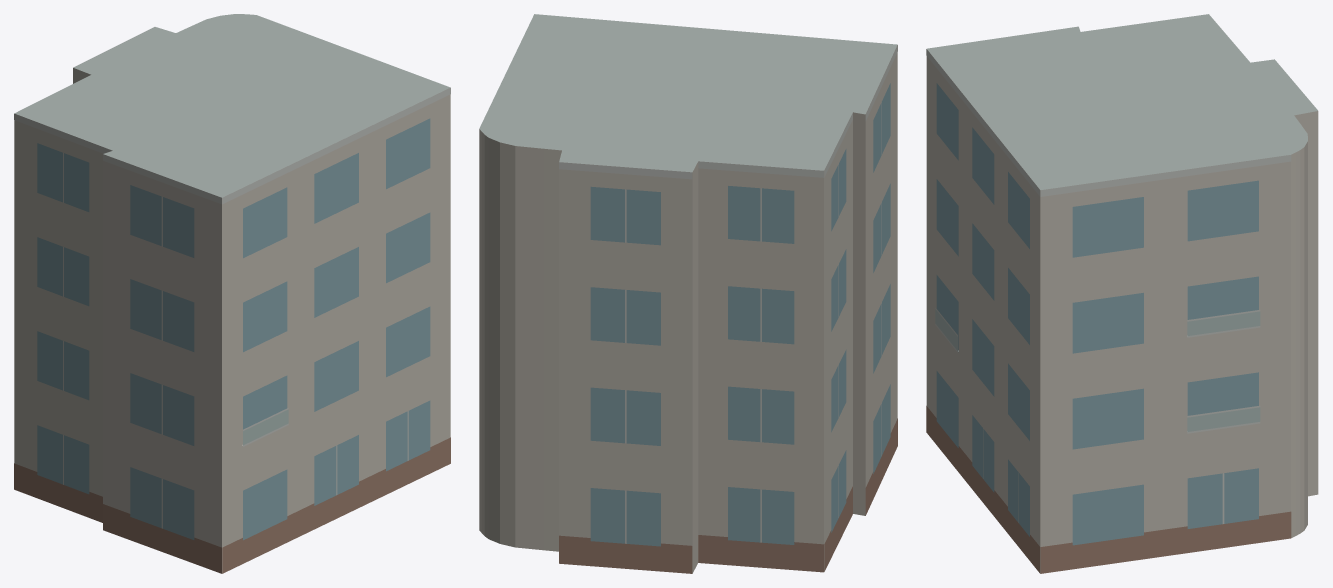
The model's file is survey-upis-32810015.glb.
3 views of the same model, side by side, from view 1: azimuth 30°, elevation 25°; view 2: azimuth 150°, elevation 25°; view 3: azimuth 270°, elevation 25° (orthographic). The views are drawn at different scales.
Visible parts, largest first — view 1: survey-upis-32810015.tmp; view 2: survey-upis-32810015.tmp; view 3: survey-upis-32810015.tmp.
Part boxes in pixels (left/top/right/bottom): survey-upis-32810015.tmp: left=14, top=14, right=450, bottom=573; survey-upis-32810015.tmp: left=479, top=14, right=897, bottom=573; survey-upis-32810015.tmp: left=926, top=14, right=1318, bottom=573.
Bounding box in the file's own units: 13.61 × 13.8 × 12.79.
